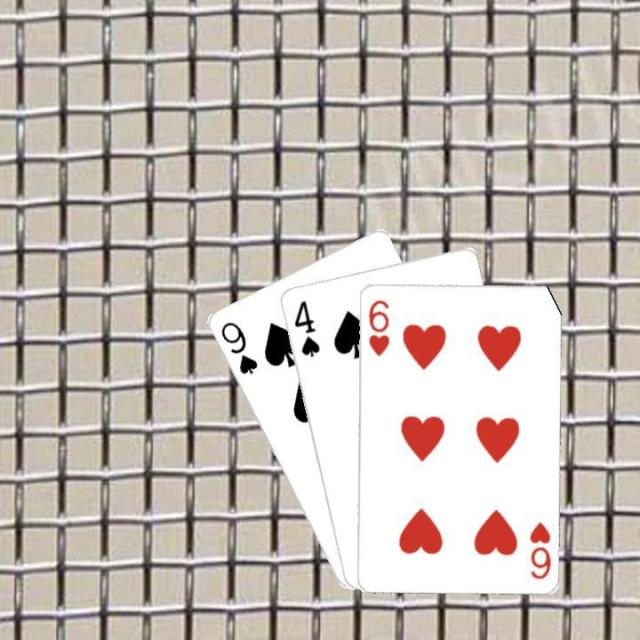4S: (289, 296, 322, 358)
6H: (525, 518, 552, 580), (364, 295, 390, 357)
9S: (216, 317, 260, 377)
